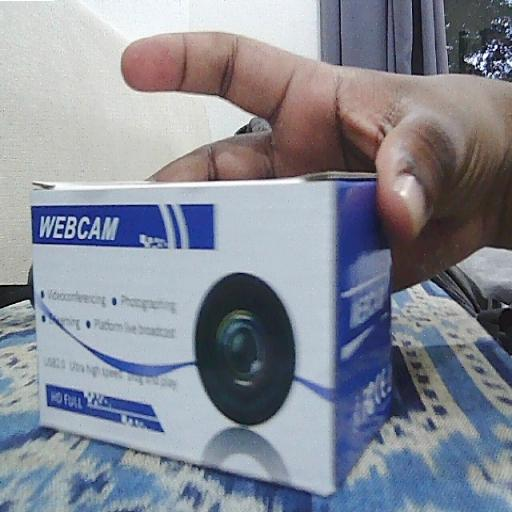webcam_box: (30, 172, 394, 496)
